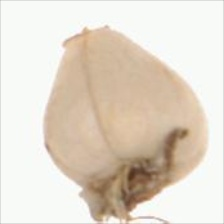L3: (59, 25, 116, 48)
L4: (43, 26, 208, 221)
